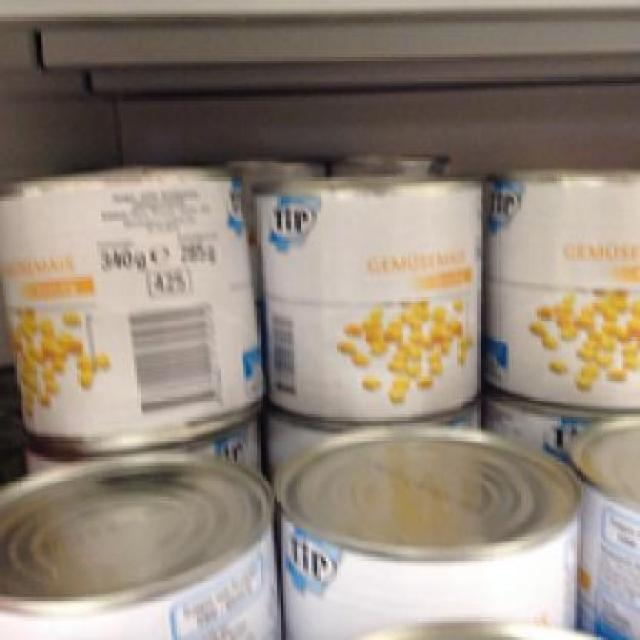Corn: (0, 163, 260, 443), (248, 170, 482, 424), (482, 166, 638, 406)
